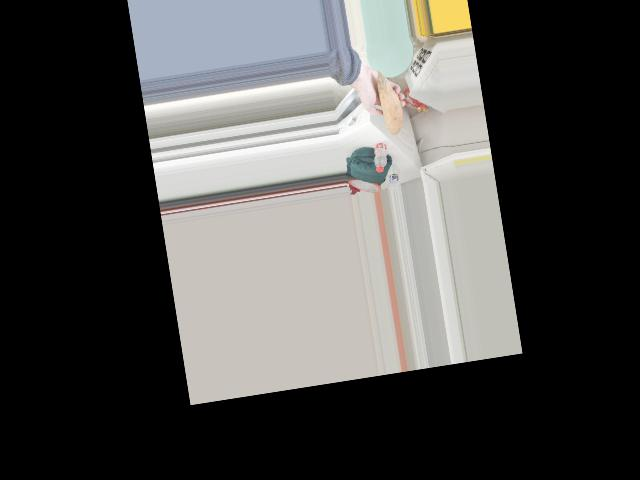sweet_potato: (375, 71, 405, 129)
